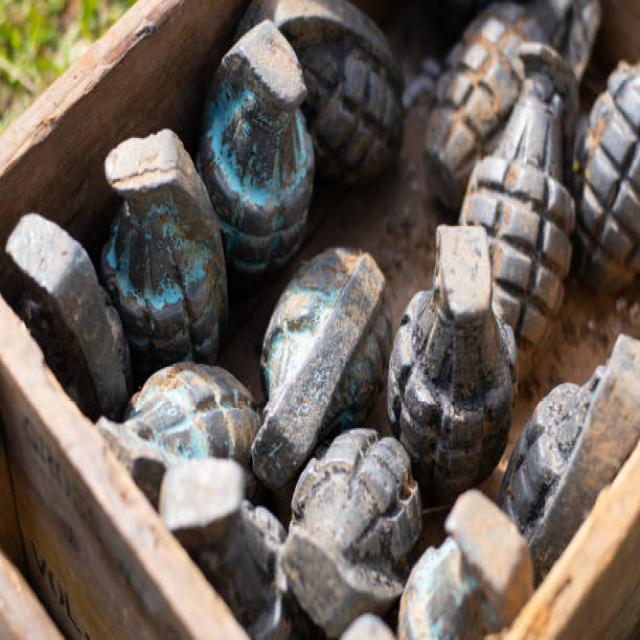grenade: (453, 43, 583, 389), (389, 219, 517, 497), (255, 247, 399, 487), (200, 31, 320, 276)
